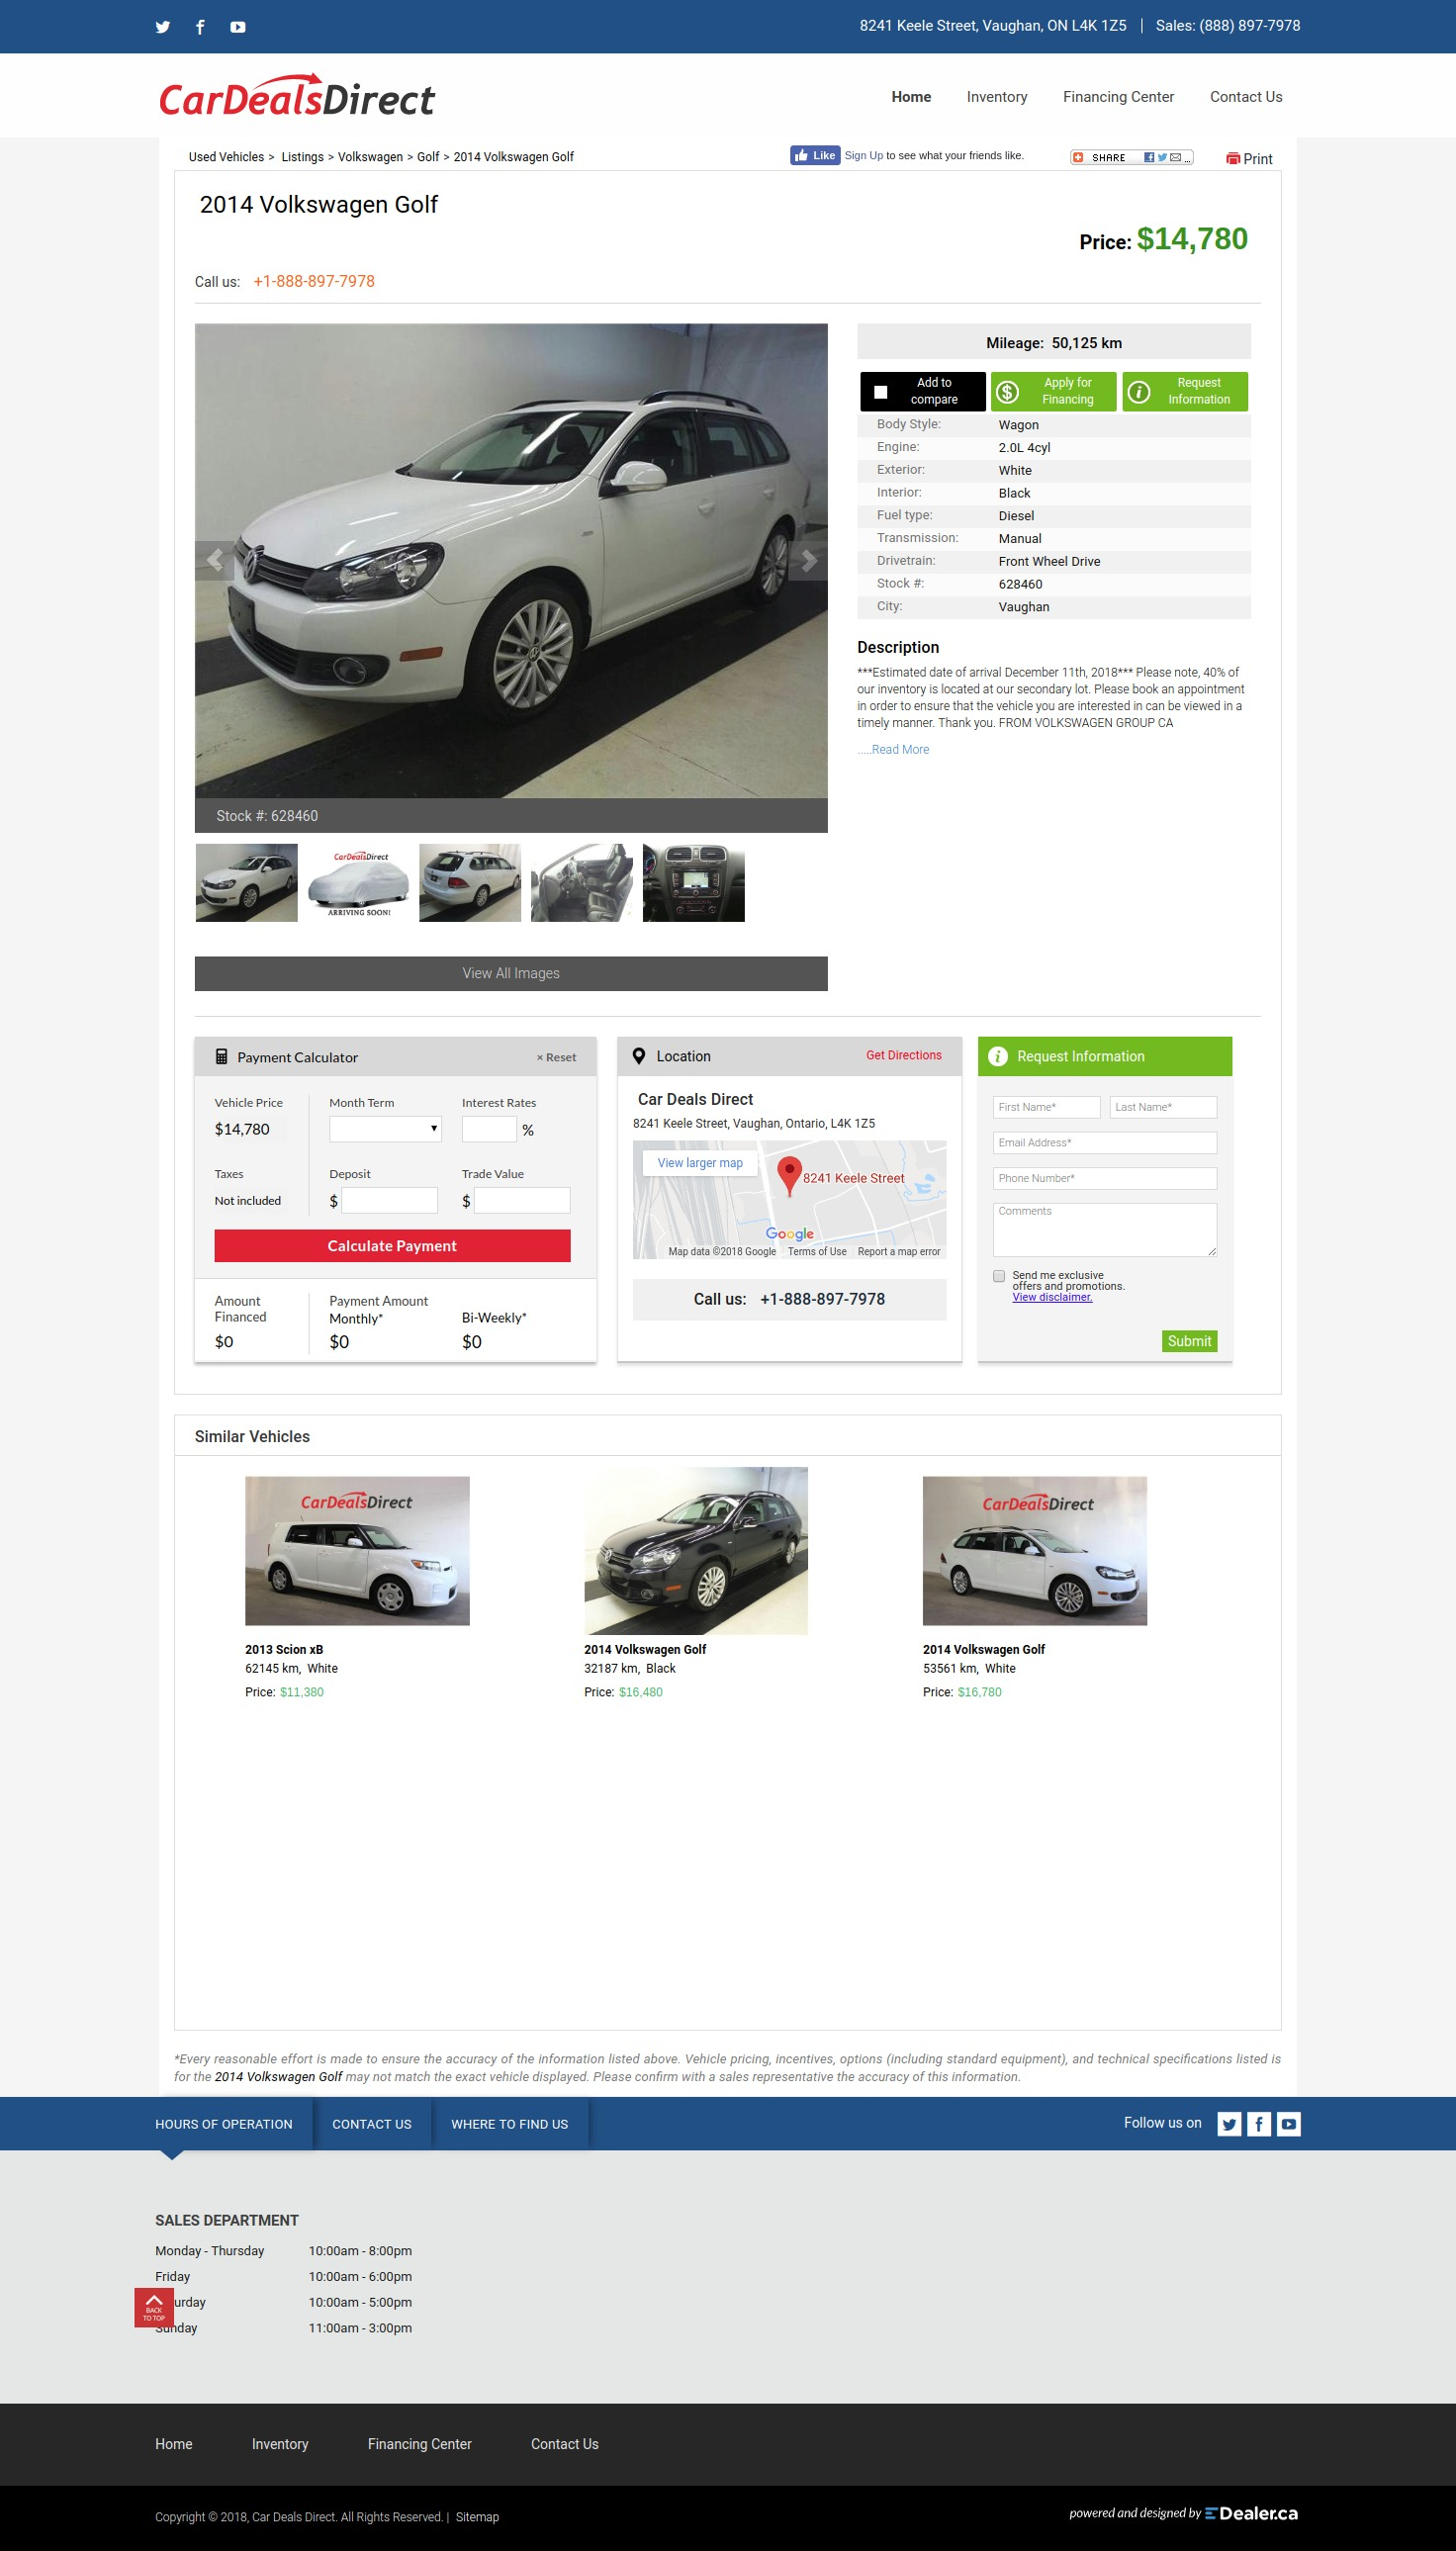car: (783, 536, 834, 585)
